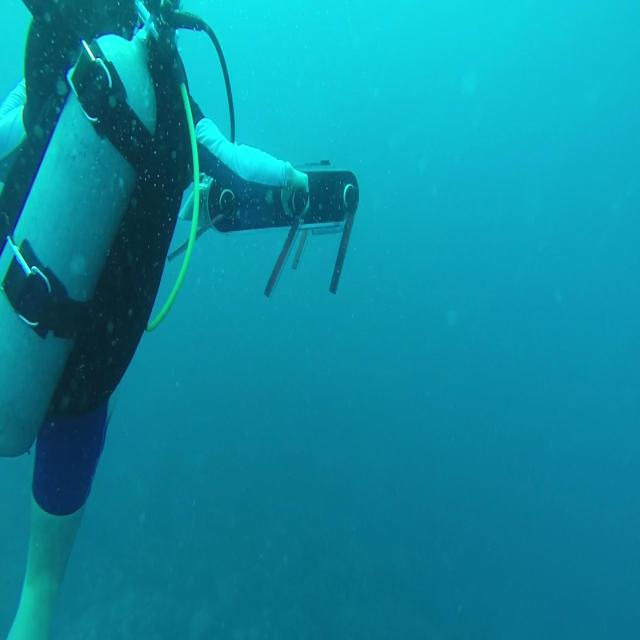human: (1, 1, 351, 637)
